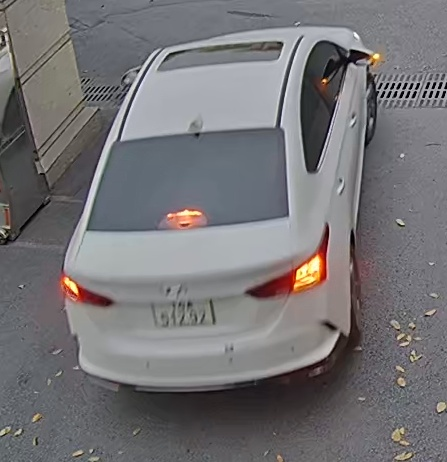vehicle plate: (144, 295, 216, 333)
